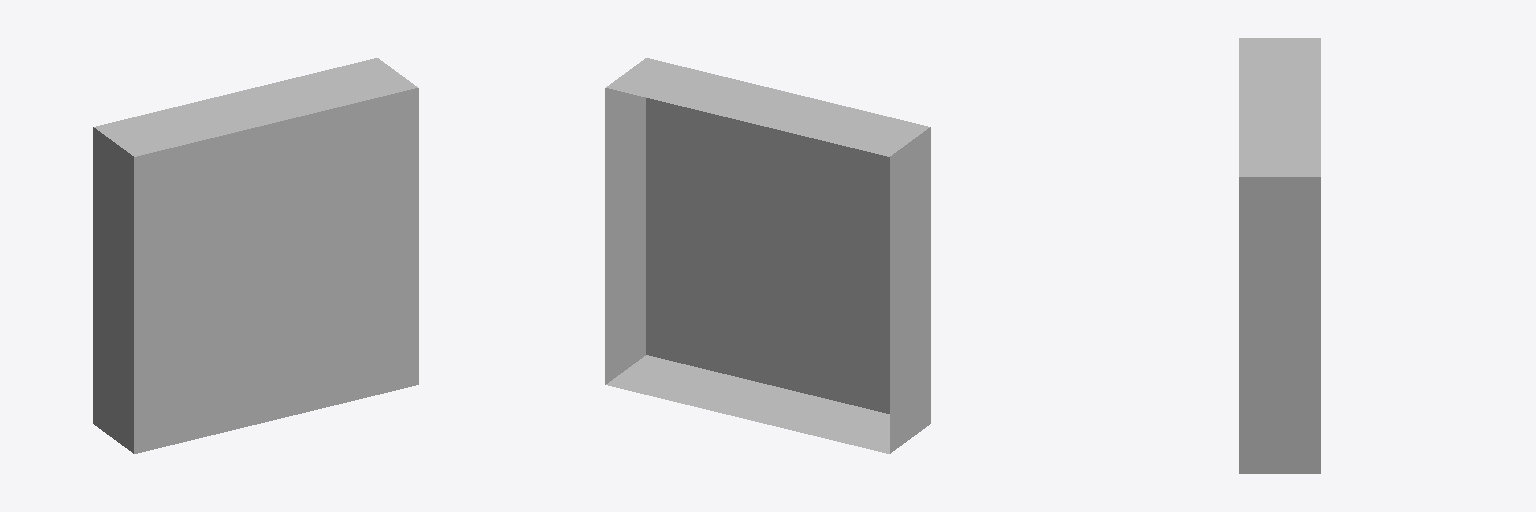
Rendered from terrain-grass.obj.
The picture shows the model from 3 angles: view 1: azimuth 30°, elevation 25°; view 2: azimuth 150°, elevation 25°; view 3: azimuth 270°, elevation 25°; orthographic projection.
Visible parts, largest first — view 1: terrain-grass_Cube.701; view 2: terrain-grass_Cube.701; view 3: terrain-grass_Cube.701.
Part boxes in pixels (bbox=[...]): terrain-grass_Cube.701: bbox=[93, 58, 418, 453]; terrain-grass_Cube.701: bbox=[605, 58, 930, 453]; terrain-grass_Cube.701: bbox=[1239, 38, 1320, 473].
Bounding box in the file's own units: 8 × 8 × 2.